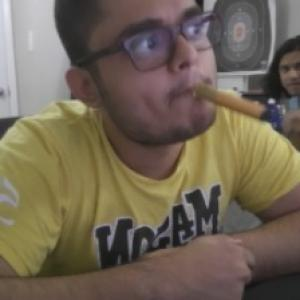Golden-E-Ciggirate: (189, 83, 269, 124)
